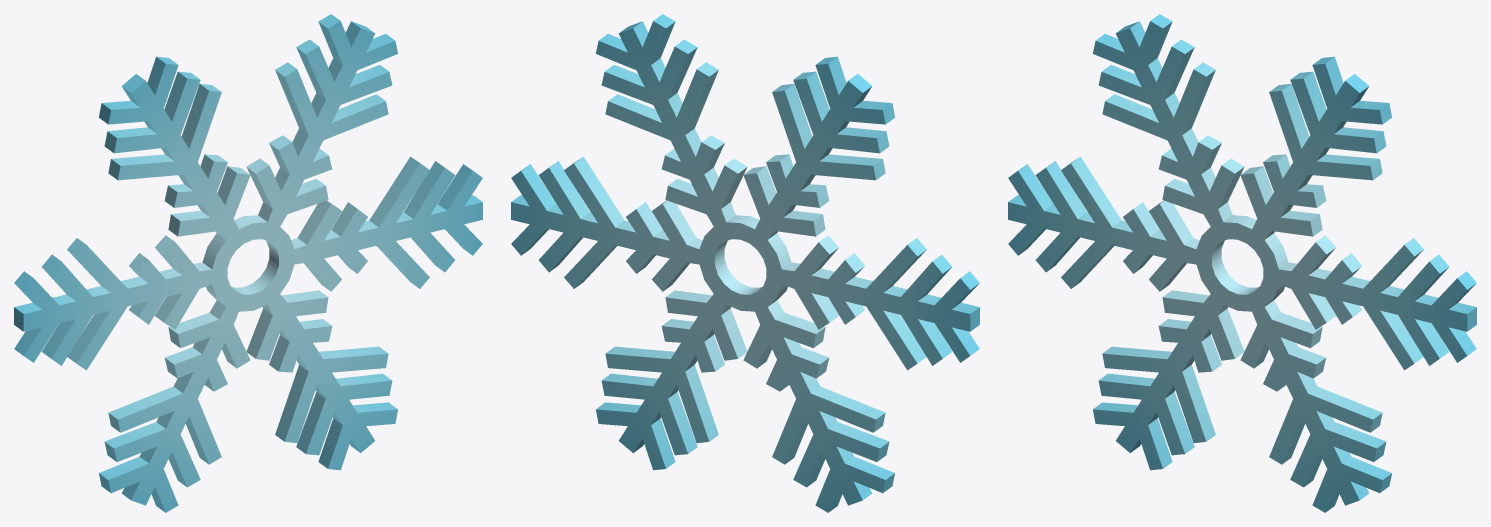
The model's file is snowflake_002.fbx.
The picture shows the model from 3 angles, left to right: view 1: azimuth 30°, elevation 25°; view 2: azimuth 150°, elevation 25°; view 3: azimuth 330°, elevation 25°; orthographic projection.
Parts seen in each view (by area): view 1: snowflake_002; view 2: snowflake_002; view 3: snowflake_002.
Part boxes in pixels (<box>): snowflake_002: <box>14,14,482,512</box>; snowflake_002: <box>511,14,979,512</box>; snowflake_002: <box>1008,14,1476,512</box>.
Size of the model in its own units: 621 by 22.42 by 581.
